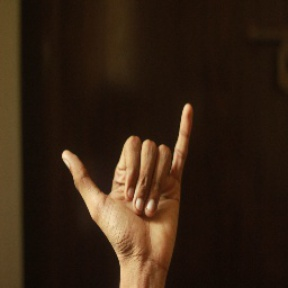J: (62, 100, 205, 257)
